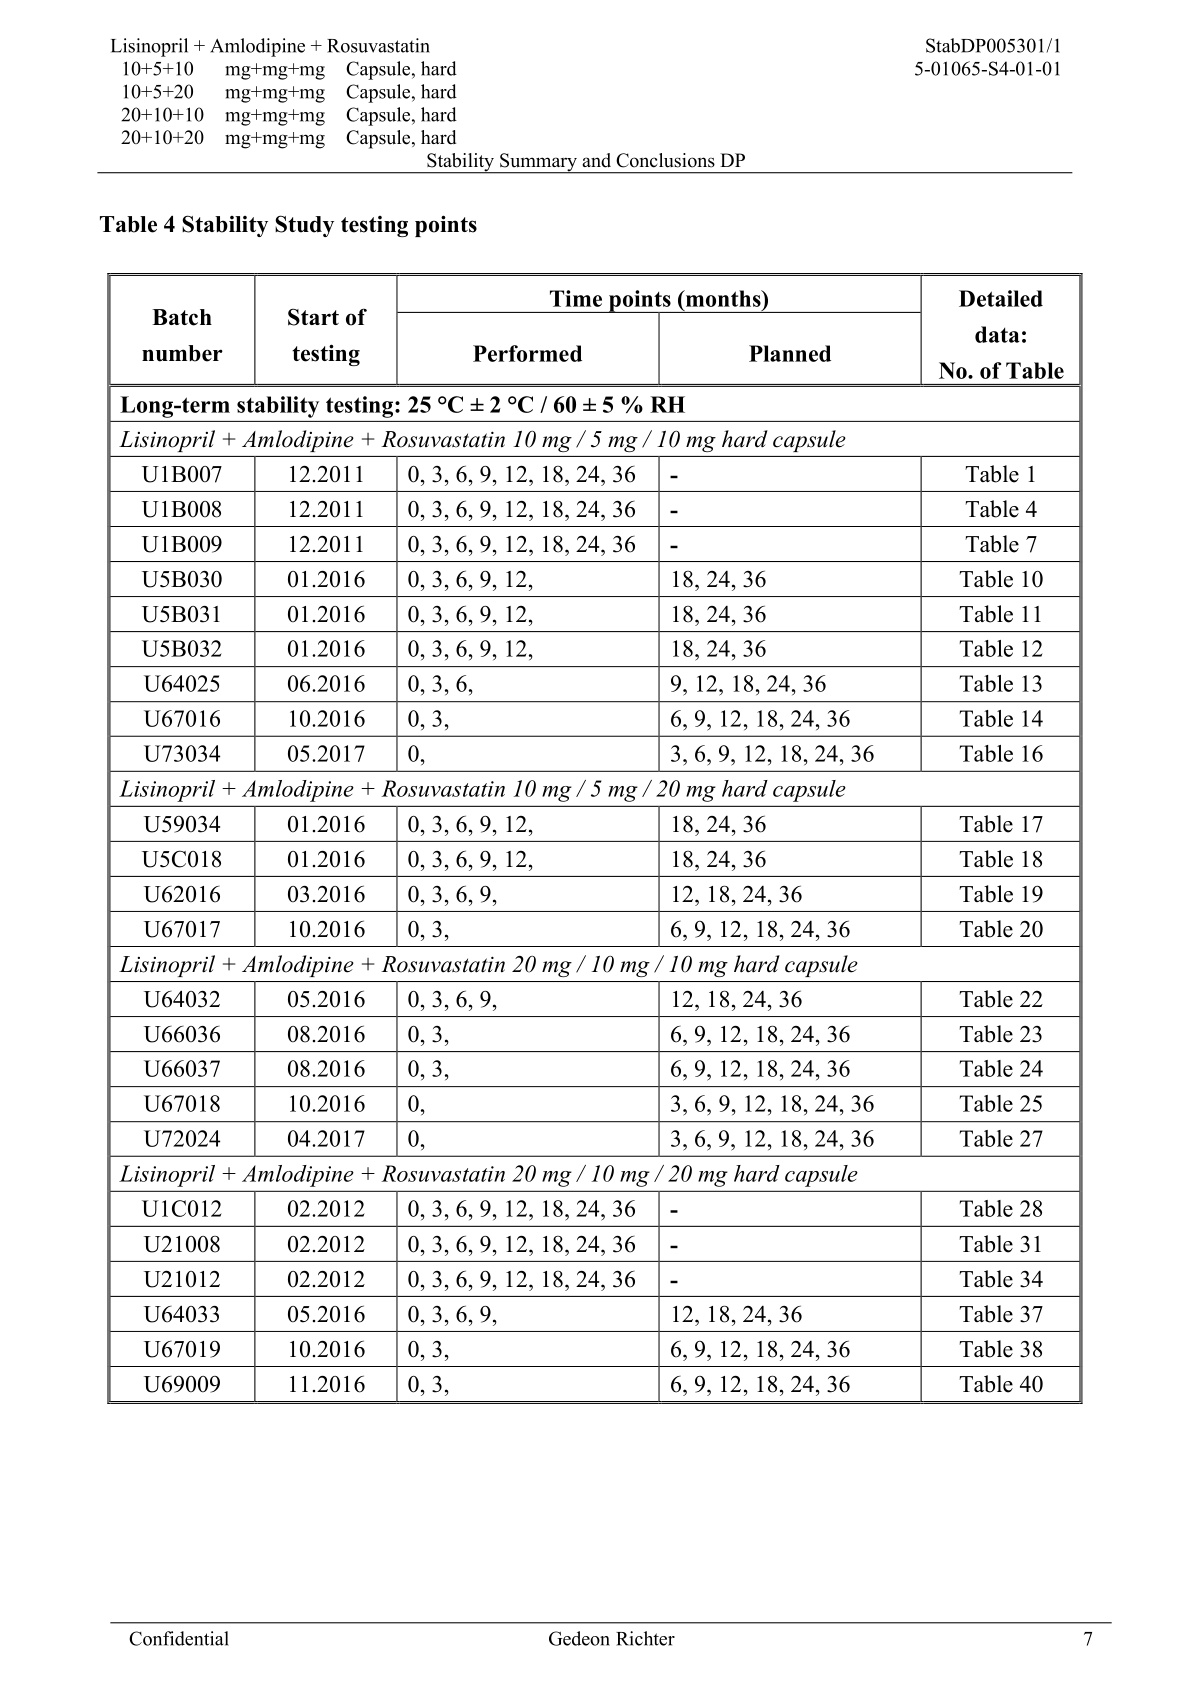merged_cells: (104, 272, 1083, 1404)
nolines: (110, 36, 459, 148)
